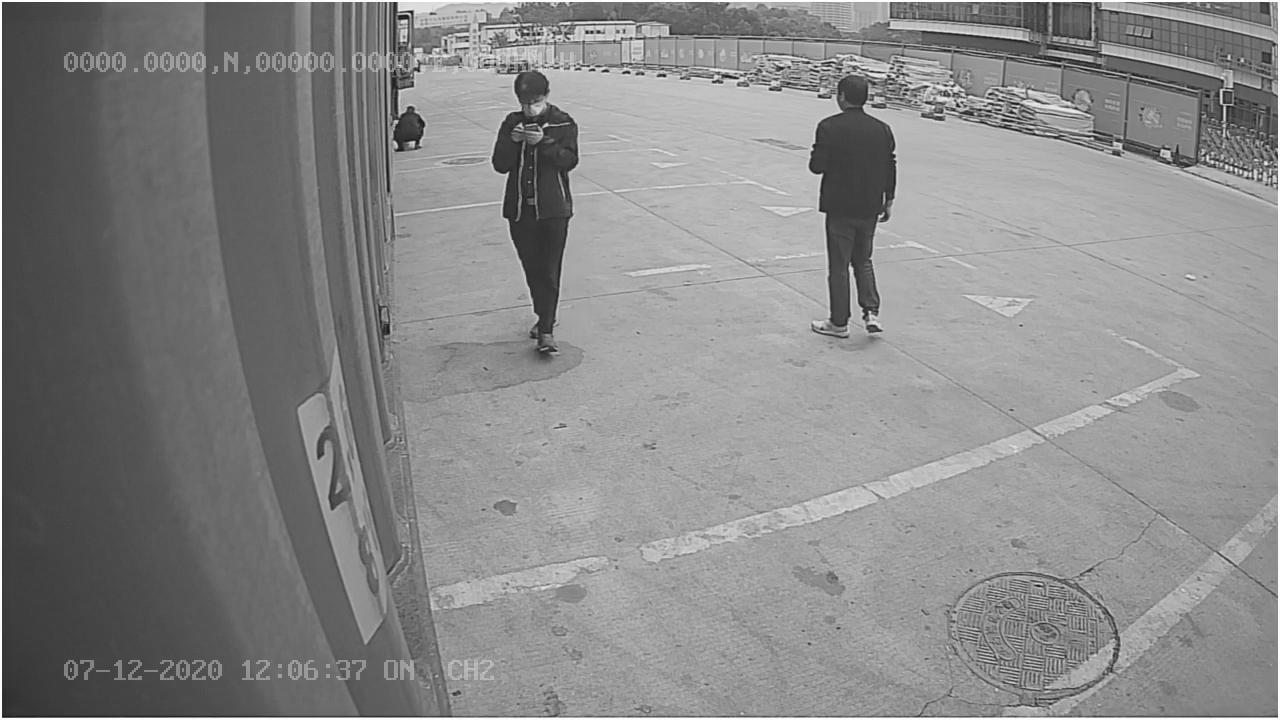person: (487, 67, 582, 356), (805, 69, 902, 344)
